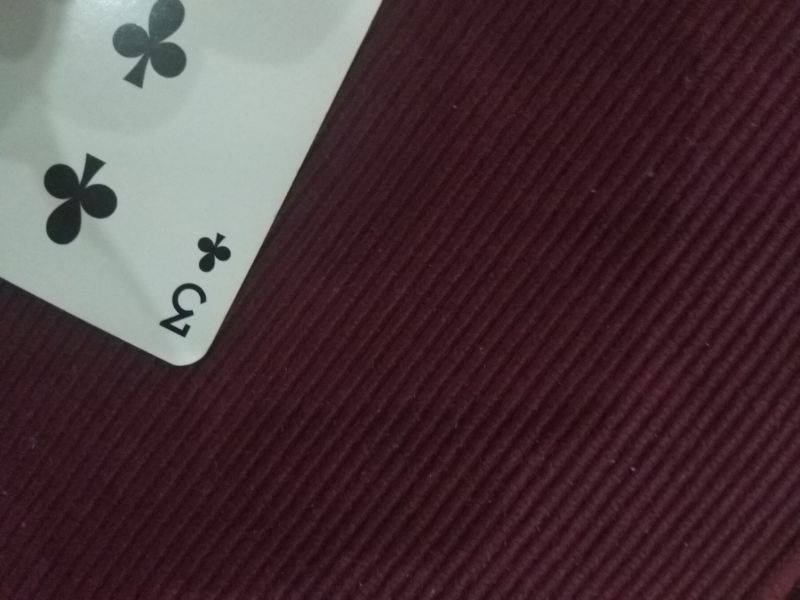3c: (152, 226, 235, 342)
